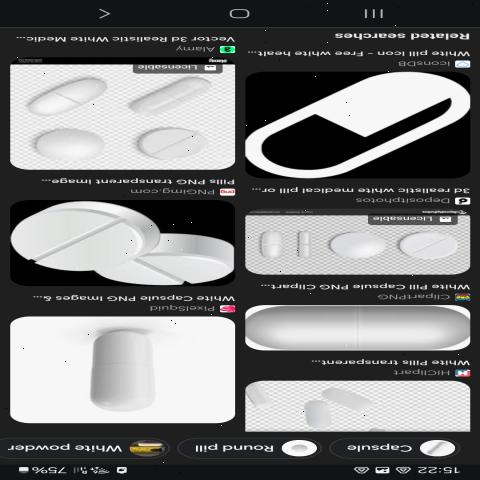Pill: (54, 321, 178, 420), (237, 300, 471, 350), (9, 202, 162, 277), (100, 233, 237, 287), (10, 74, 115, 124), (114, 73, 218, 116), (17, 122, 111, 169), (128, 120, 211, 160), (392, 224, 458, 268), (328, 225, 389, 267), (271, 397, 342, 431), (313, 384, 380, 417), (250, 226, 284, 259), (292, 221, 316, 262)
